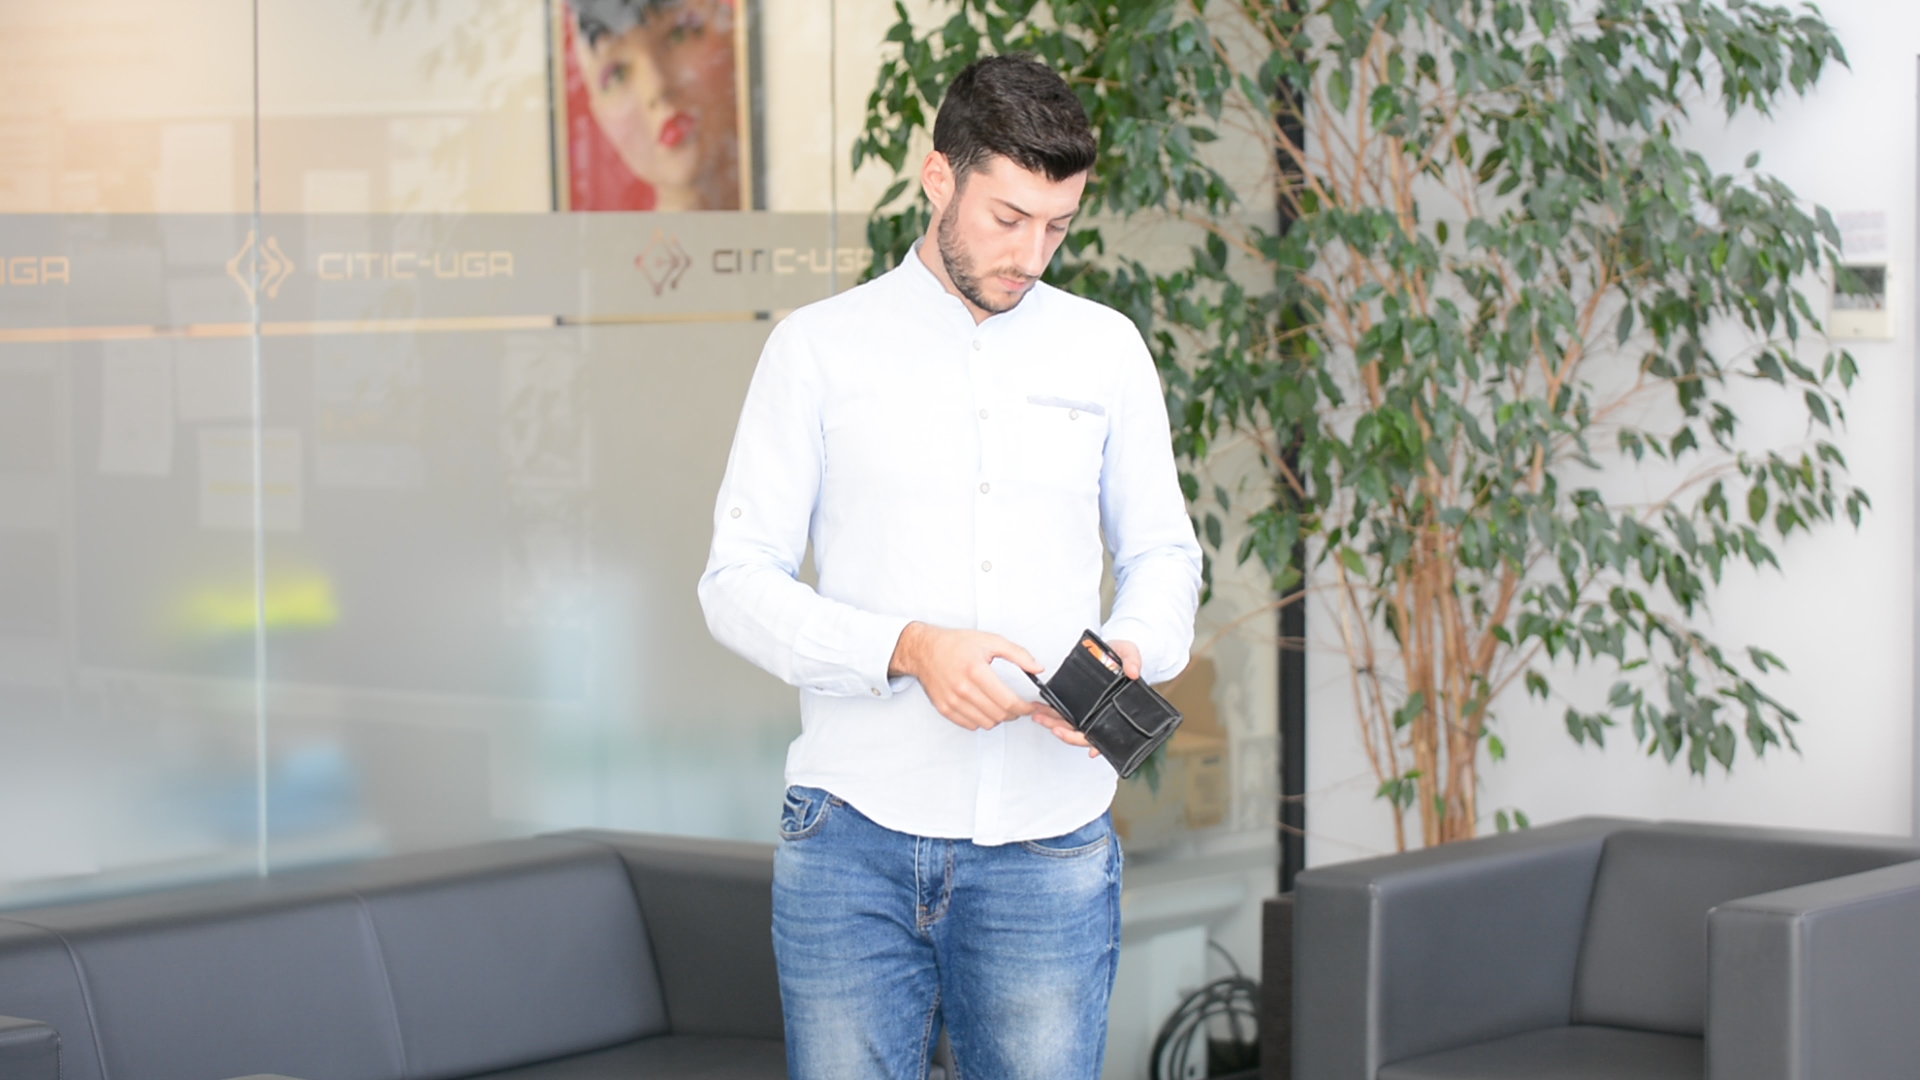monedero: (1021, 626, 1185, 781)
